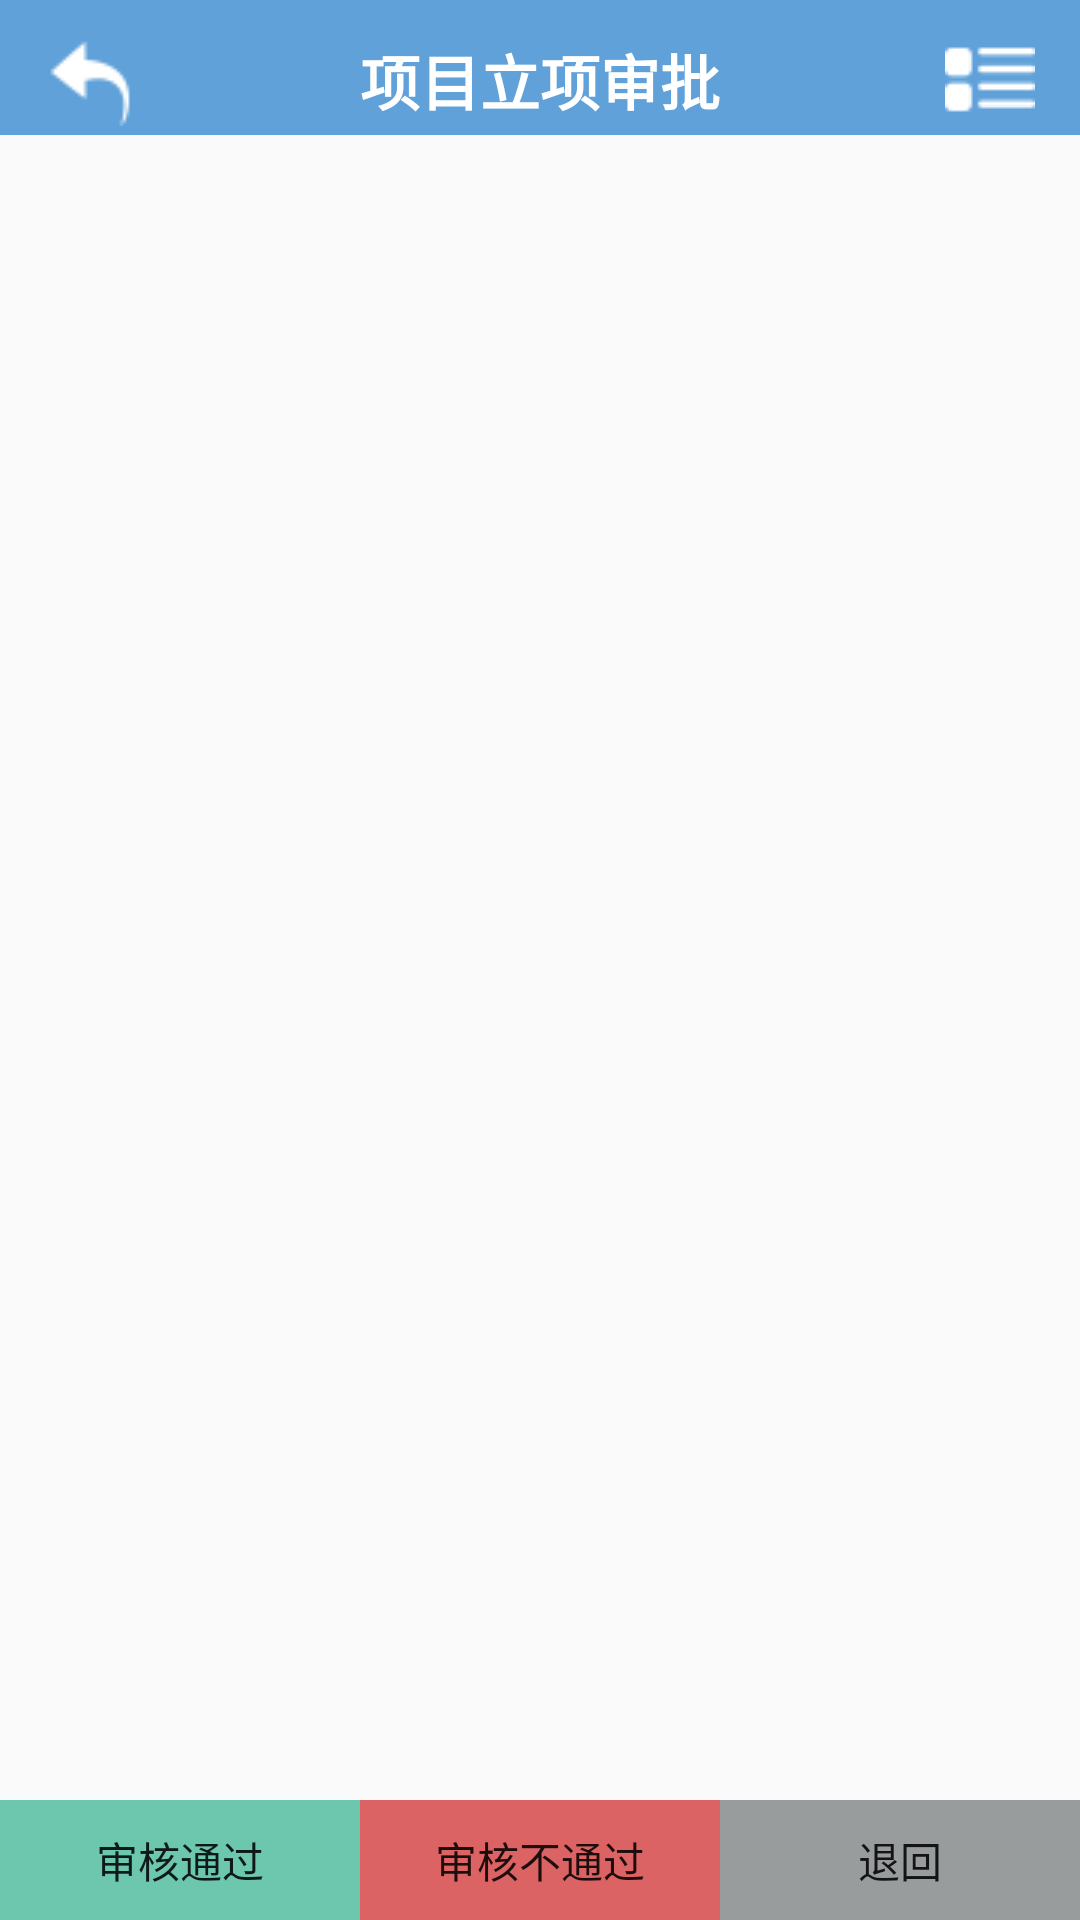

Point at icon controls on the screen. Image size 1080px x 1920px, points as (x,y).
back: (90,84)
detail: (990,79)
